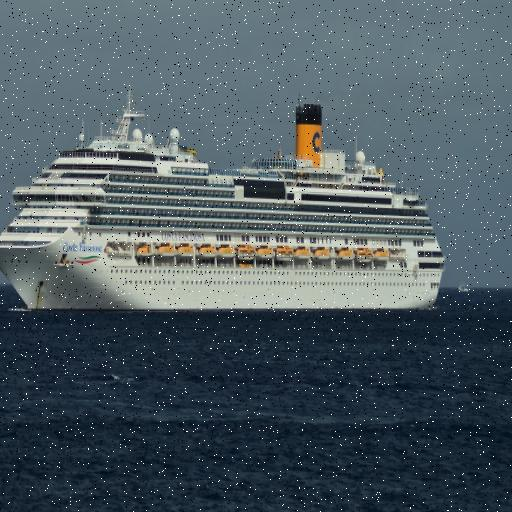cruises: (1, 87, 449, 318)
